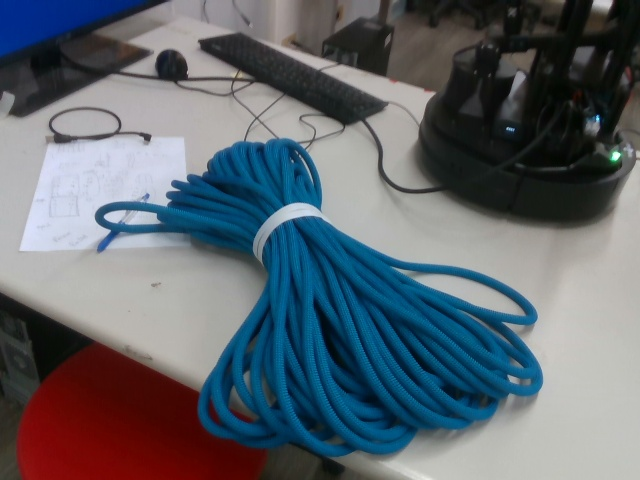rope: (94, 136, 556, 466)
